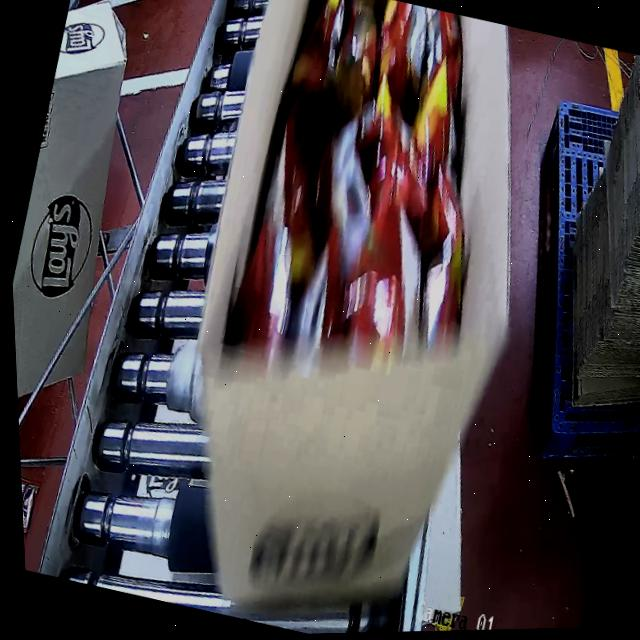MASALA: (218, 0, 528, 374)
